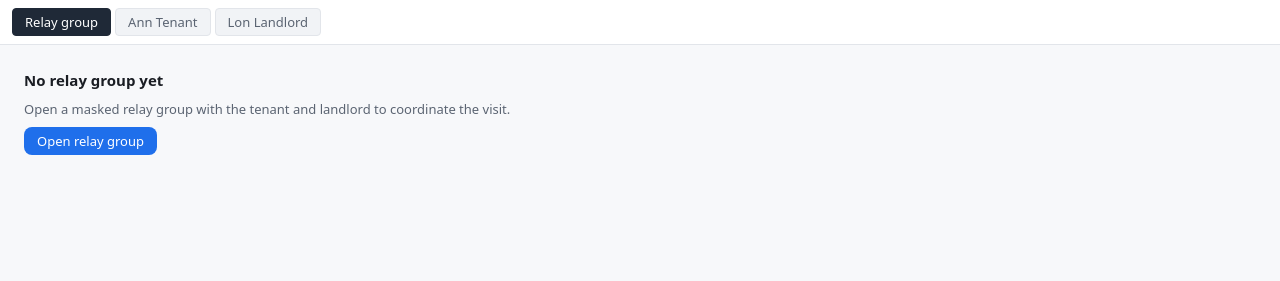
Scenario: TourConversation - deleted-contact composer lock › a soft-deleted tenant locks the tenant 1:1: note shown, no Reply textbox, no dead Restore
What coordinates should you click on to do the following:
click the tab "Ann Tenant"
I would click on:
 (163, 22)
Its box is [115,8,211,36].
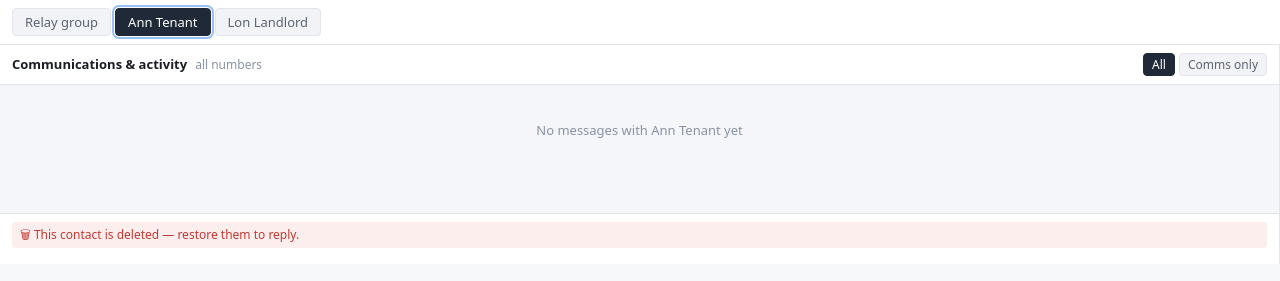
expect the text "🗑 This contact is deleted — restore them to reply." is shown: met, box [12,222,1267,248]
